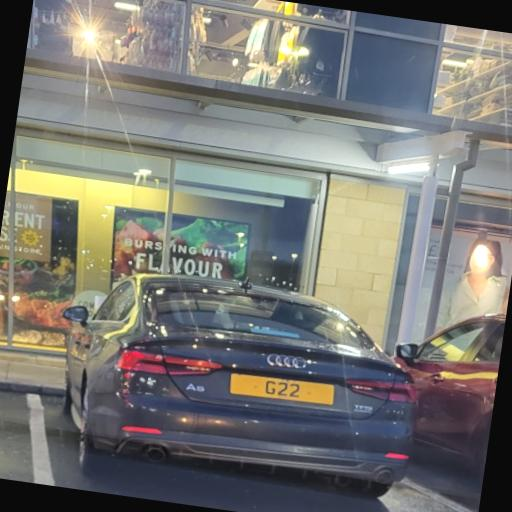numberplates: (230, 374, 334, 405)
